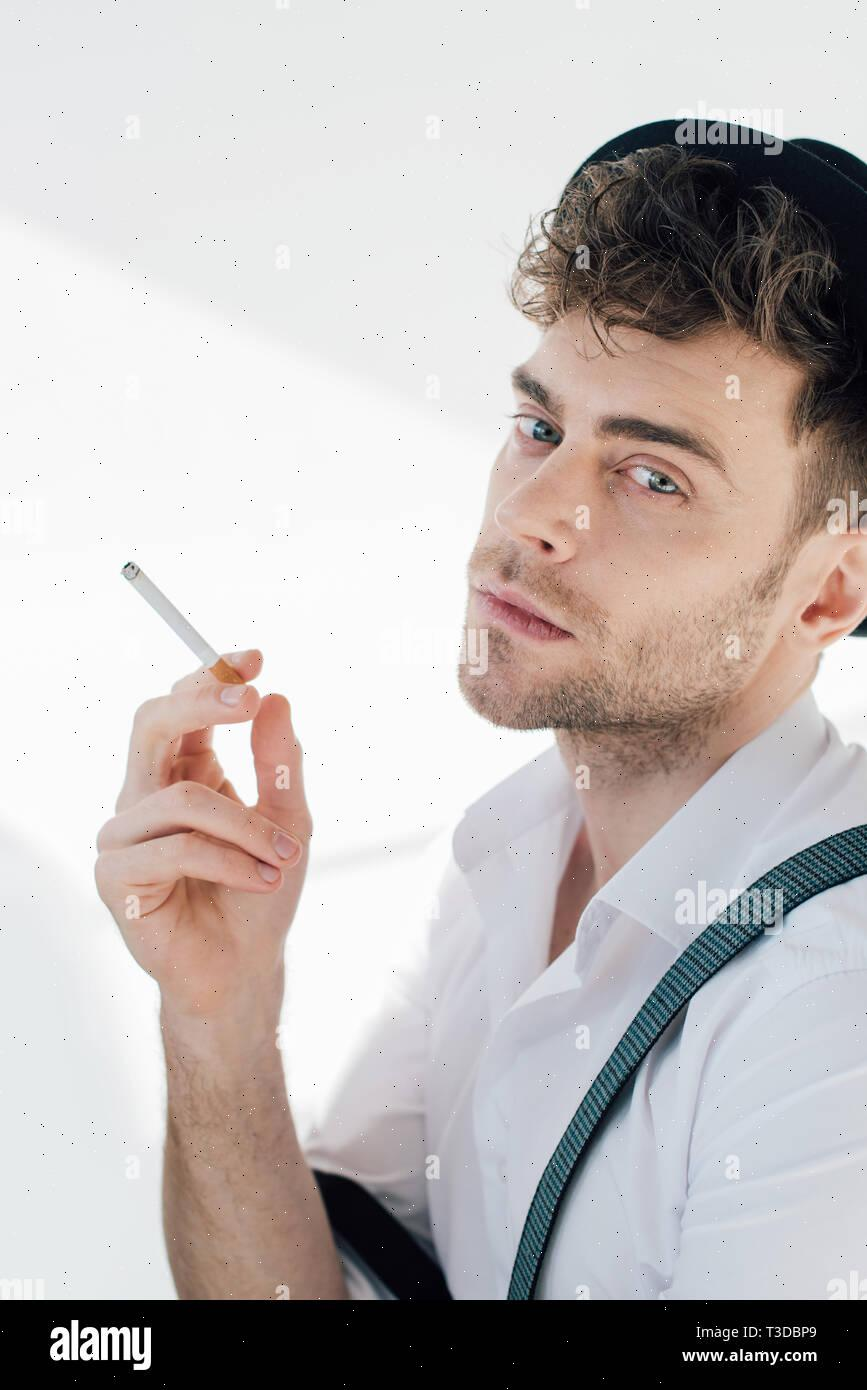cigarette: (121, 562, 243, 683)
